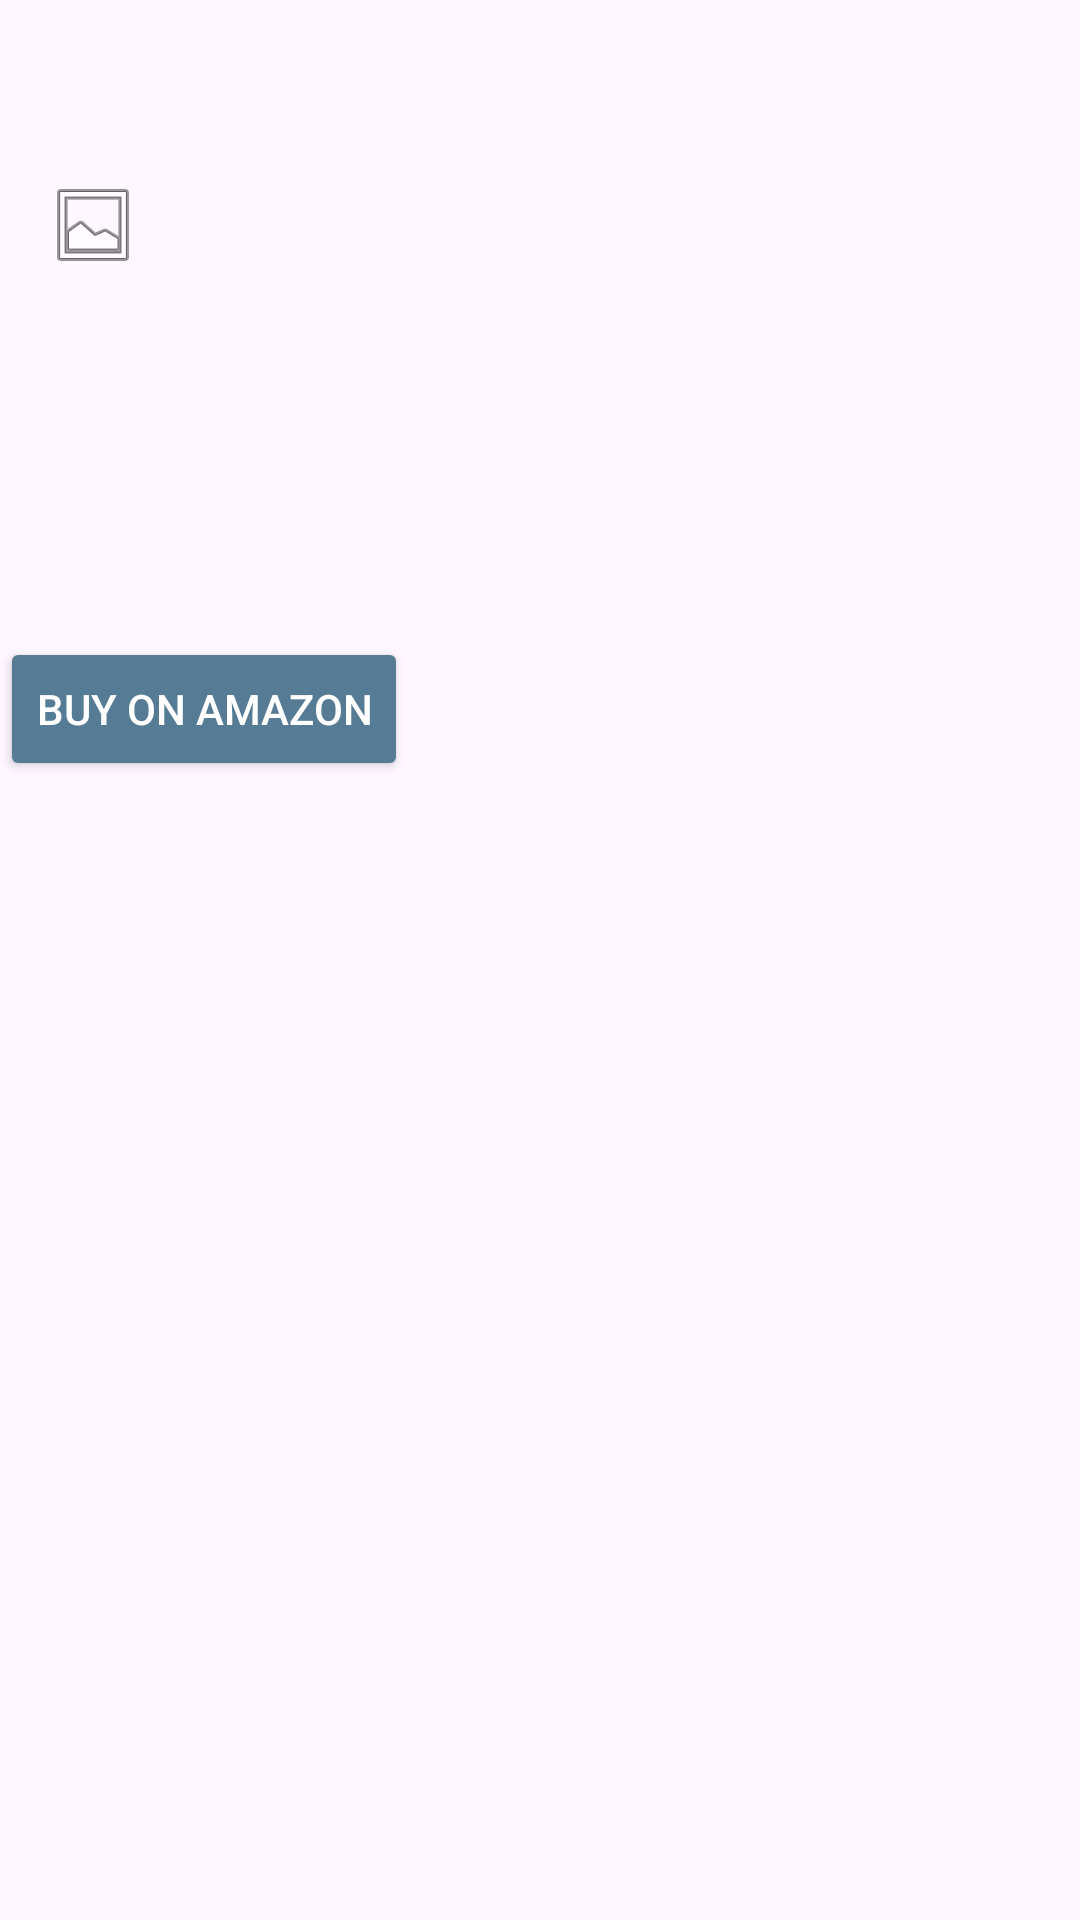

Named icons in this screenshot (1080 × 1920) and their centers, [x,y]:
gallery: [93,225]
